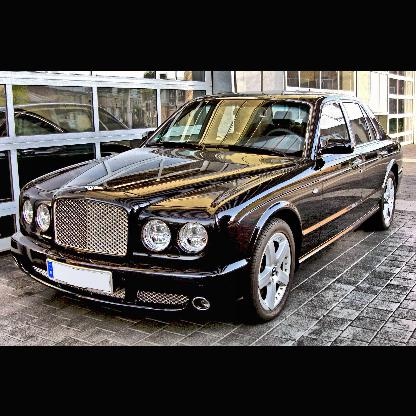Bentley Arnage Sedan 2009: (9, 88, 406, 326)
